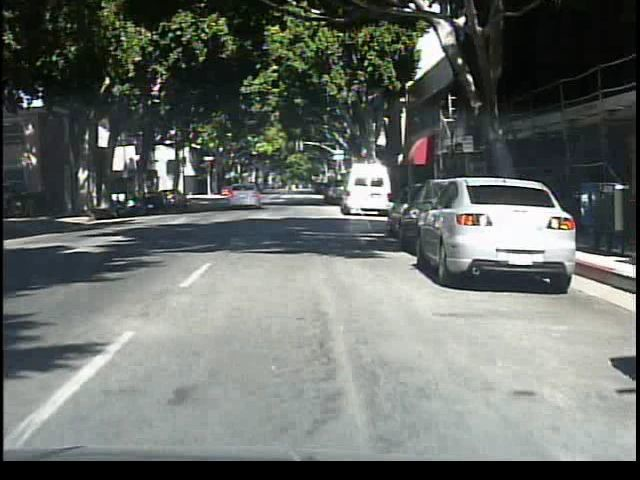person: (279, 173, 299, 205)
